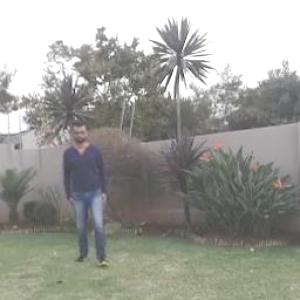follow: (67, 117, 110, 264)
